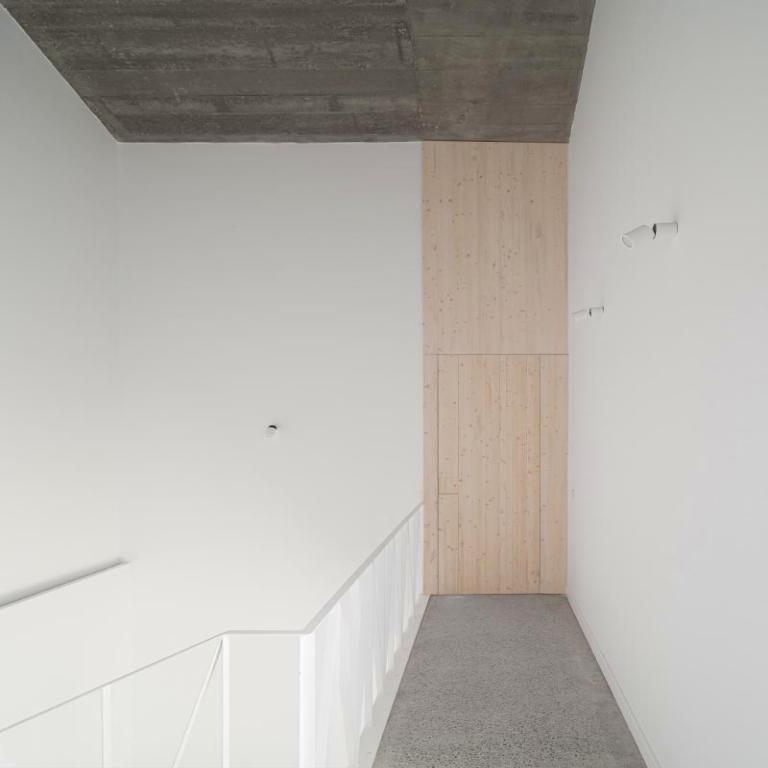white-walls: (29, 157, 387, 398)
